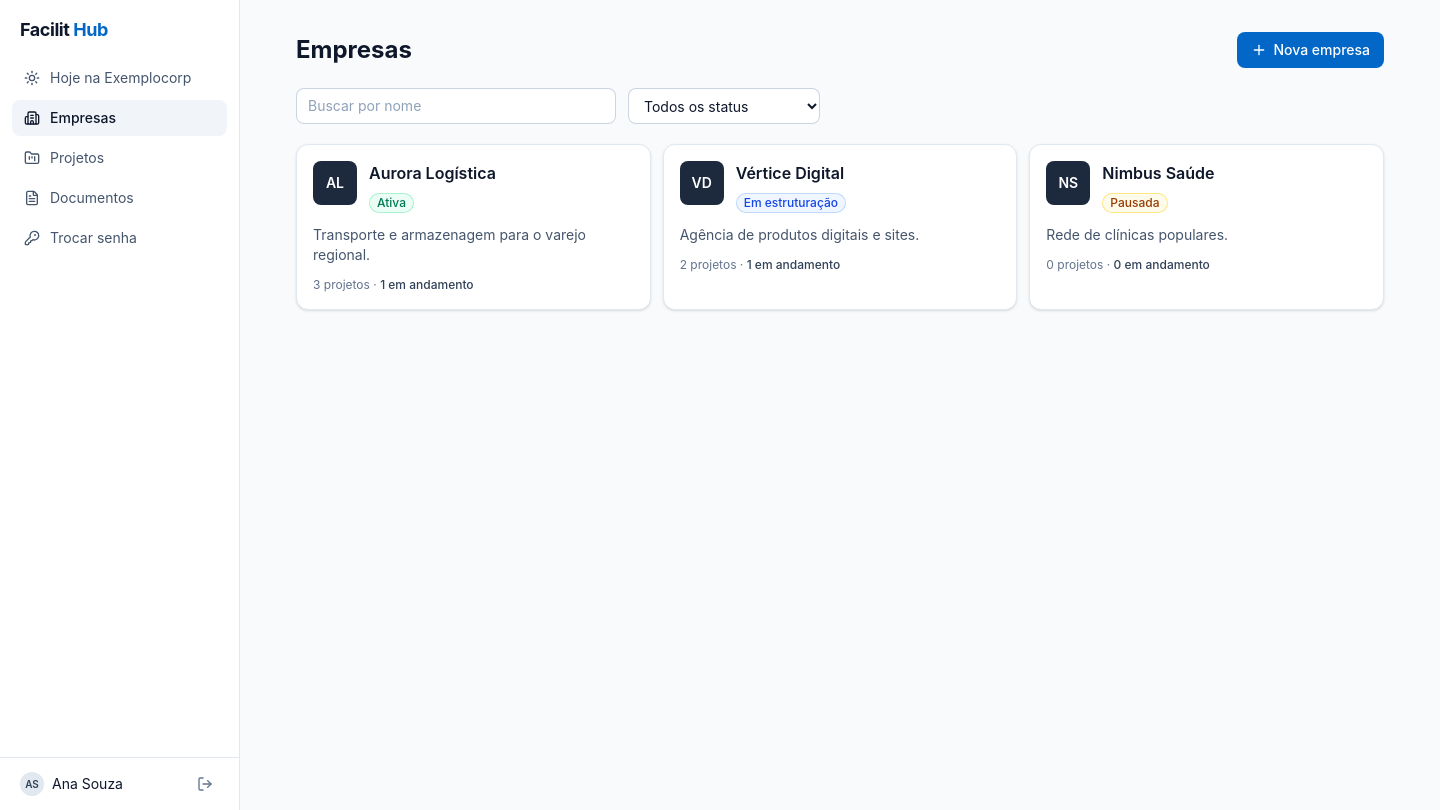
it: empresas › filtra por status
Expected: the text "Vértice Digital" is shown, [736, 163, 844, 183]
Select "Pausada" in the dropdown named "Filtrar por status": (724, 106) [628, 88, 820, 124]
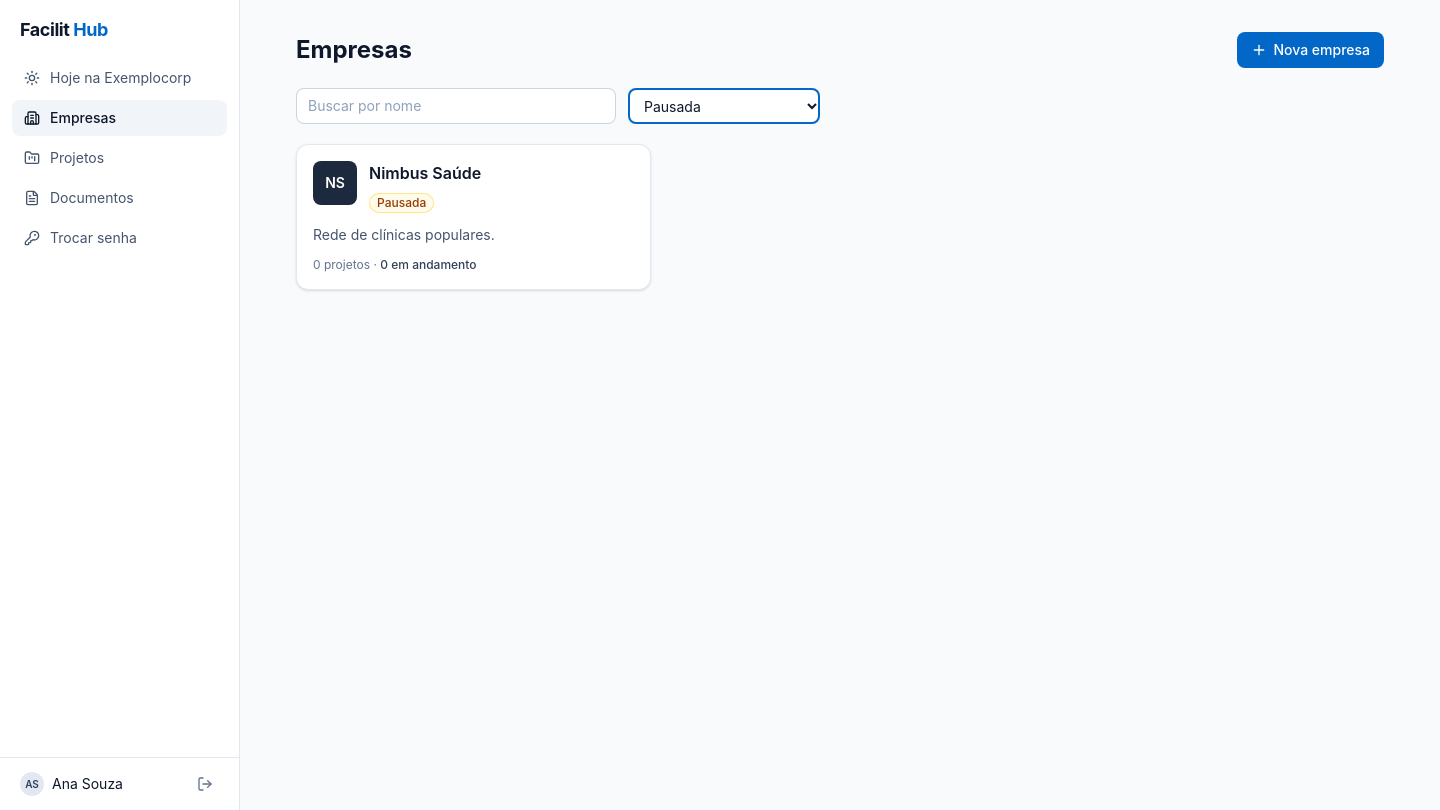
Expected: the text "Nimbus Saúde" is shown, [369, 163, 481, 183]
Expected: the link "Vértice Digital" is gone
